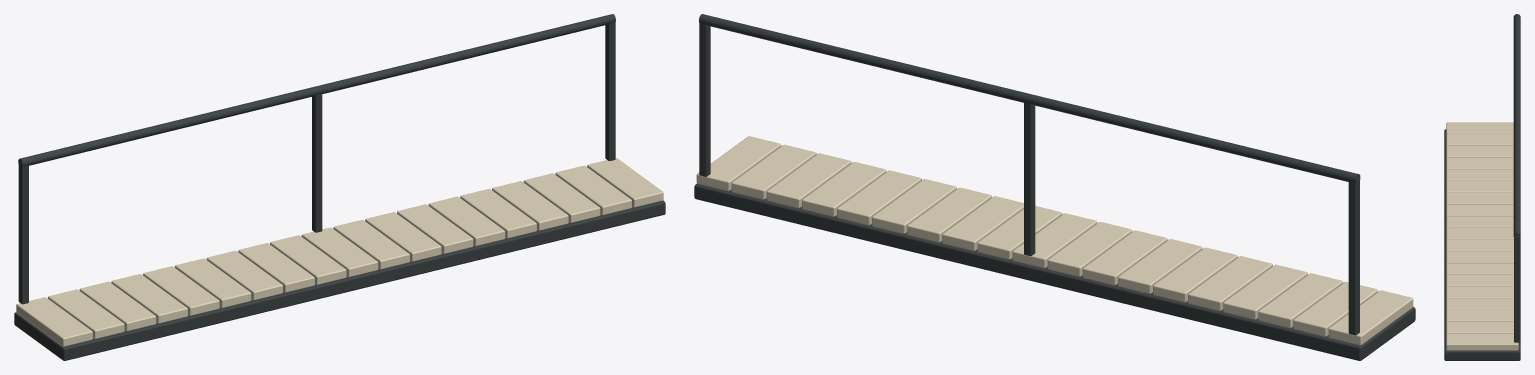
Rendered from canal-boats-and-lock-operations-canal-boats-and-lock-o-df96c9fb__31630.glb.
The picture shows the model from 3 angles, left to right: view 1: azimuth 30°, elevation 25°; view 2: azimuth 150°, elevation 25°; view 3: azimuth 270°, elevation 25°; orthographic projection. The views are drawn at different scales.
Visible parts, largest first — view 1: canal-boats-and-lock-operations-gate-crossing-walkway; view 2: canal-boats-and-lock-operations-gate-crossing-walkway; view 3: canal-boats-and-lock-operations-gate-crossing-walkway.
Part boxes in pixels (x1=…): canal-boats-and-lock-operations-gate-crossing-walkway: x1=14, y1=14, x2=665, y2=360; canal-boats-and-lock-operations-gate-crossing-walkway: x1=694, y1=14, x2=1415, y2=360; canal-boats-and-lock-operations-gate-crossing-walkway: x1=1444, y1=14, x2=1520, y2=360.
Size of the model in its own units: 3.8 by 1 by 0.5502.
